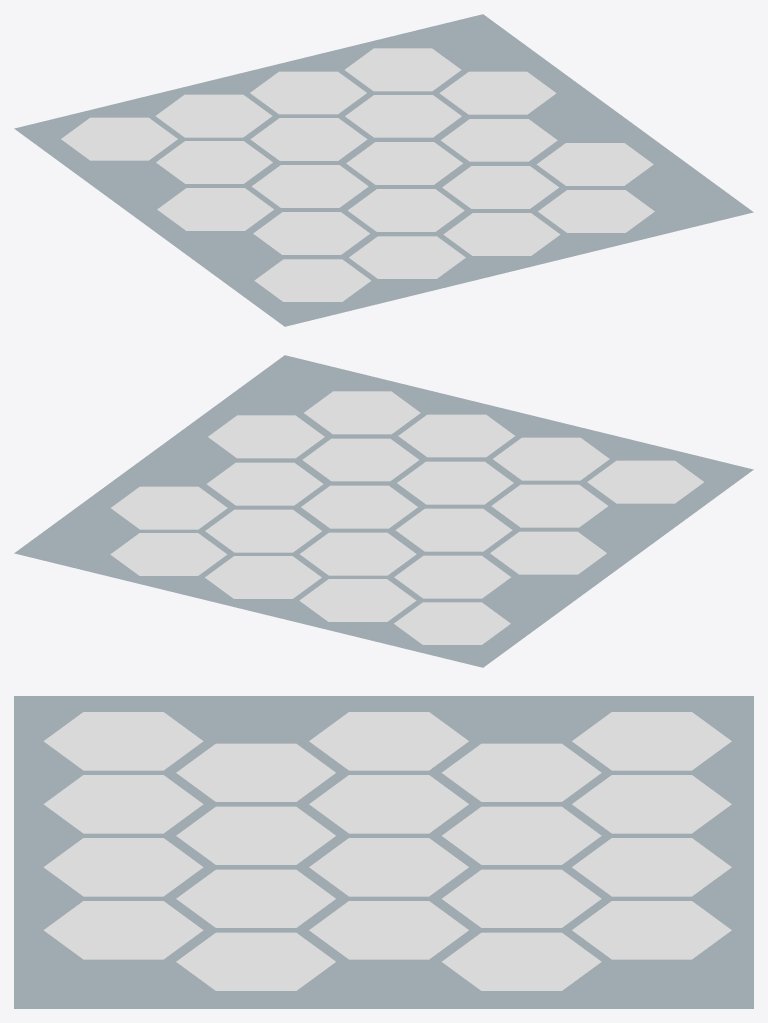
File: Carpet_M.fbx
3 views of the same model, one above another, from view 1: azimuth 30°, elevation 25°; view 2: azimuth 150°, elevation 25°; view 3: azimuth 270°, elevation 25° (orthographic). The views are drawn at different scales.
Parts seen in each view (by area): view 1: Carpet_M; view 2: Carpet_M; view 3: Carpet_M.
Part boxes in pixels (x1=…): Carpet_M: x1=14, y1=14, x2=753, y2=326; Carpet_M: x1=14, y1=355, x2=753, y2=667; Carpet_M: x1=14, y1=696, x2=753, y2=1008.
Bounding box in the file's own units: 14.38 × 0.00598 × 14.38.
1 material, 1 textured.
